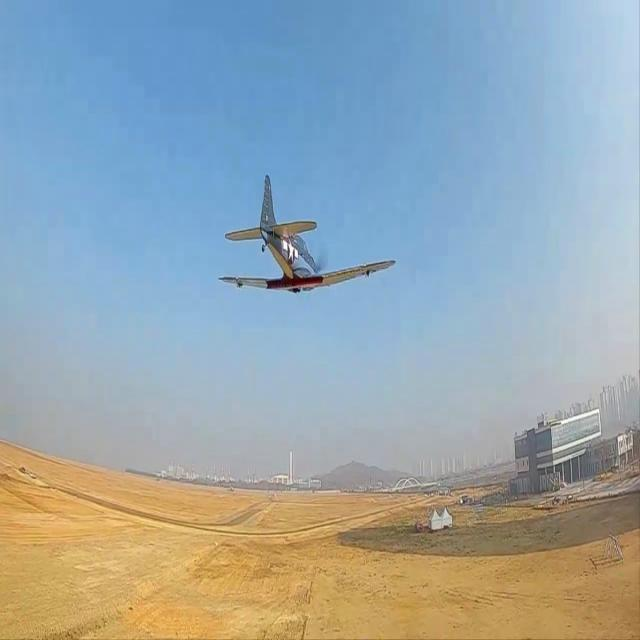iha: (205, 161, 402, 324)
